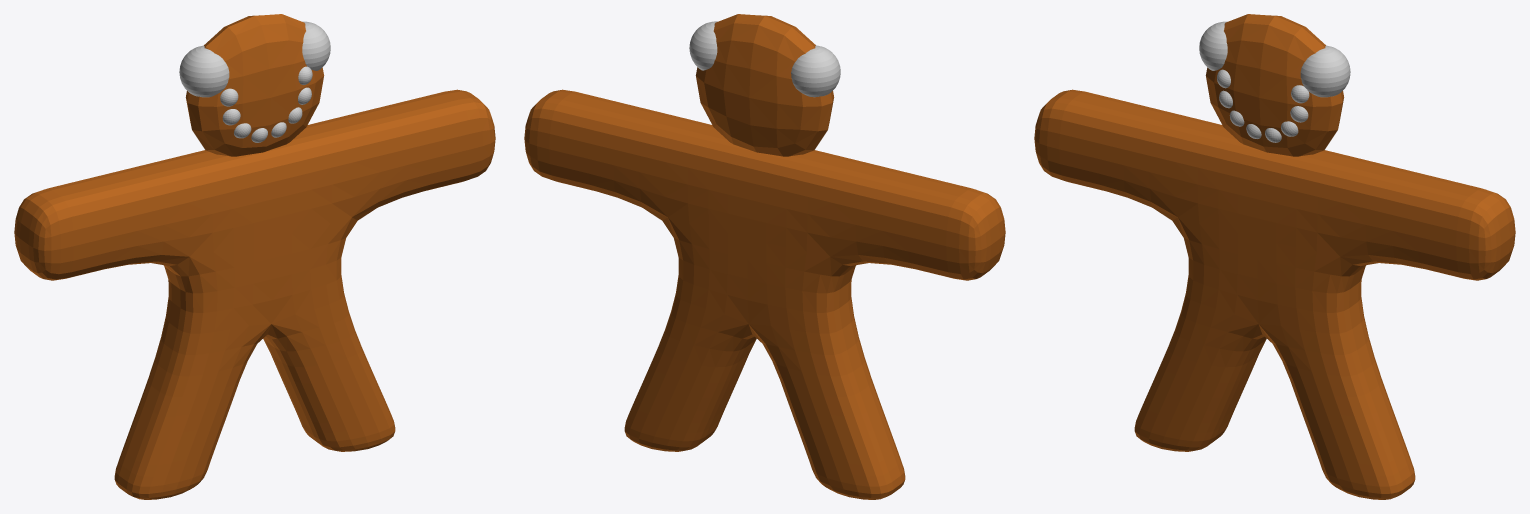
File: gingerbread.obj
The picture shows the model from 3 angles, left to right: view 1: azimuth 30°, elevation 25°; view 2: azimuth 150°, elevation 25°; view 3: azimuth 330°, elevation 25°; orthographic projection.
Parts seen in each view (by area): view 1: Cube, Sphere, Sphere.001; view 2: Cube, Sphere; view 3: Cube, Sphere, Sphere.001.
Part boxes in pixels (x1,y1,x2,y2): Cube: (14, 14, 495, 499); Sphere: (179, 21, 330, 97); Sphere.001: (220, 66, 312, 142); Cube: (524, 14, 1005, 499); Sphere: (689, 21, 840, 97); Cube: (1034, 14, 1515, 499); Sphere: (1199, 21, 1350, 97); Sphere.001: (1217, 69, 1309, 142).
Size of what is drawn, in the model's own units: 6.01 by 5.6 by 0.8.
